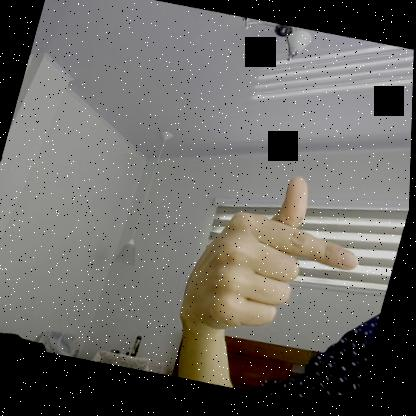T: (173, 157, 381, 371)
